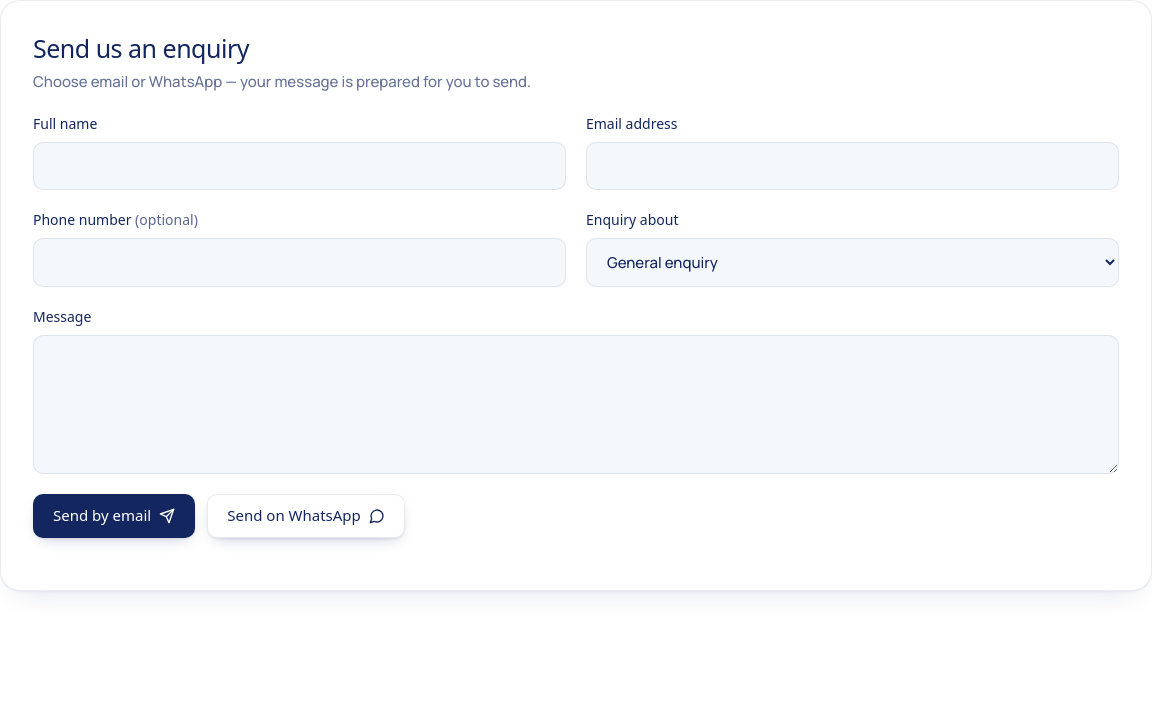
Scenario: EnquiryForm › shows field errors and focuses the first invalid field when submitted empty
The width and height of the screenshot is (1152, 720).
What coordinates should you click on to do the following:
click the button "Send by email"
I would click on:
 (114, 516)
Its box is [33,494,195,538].
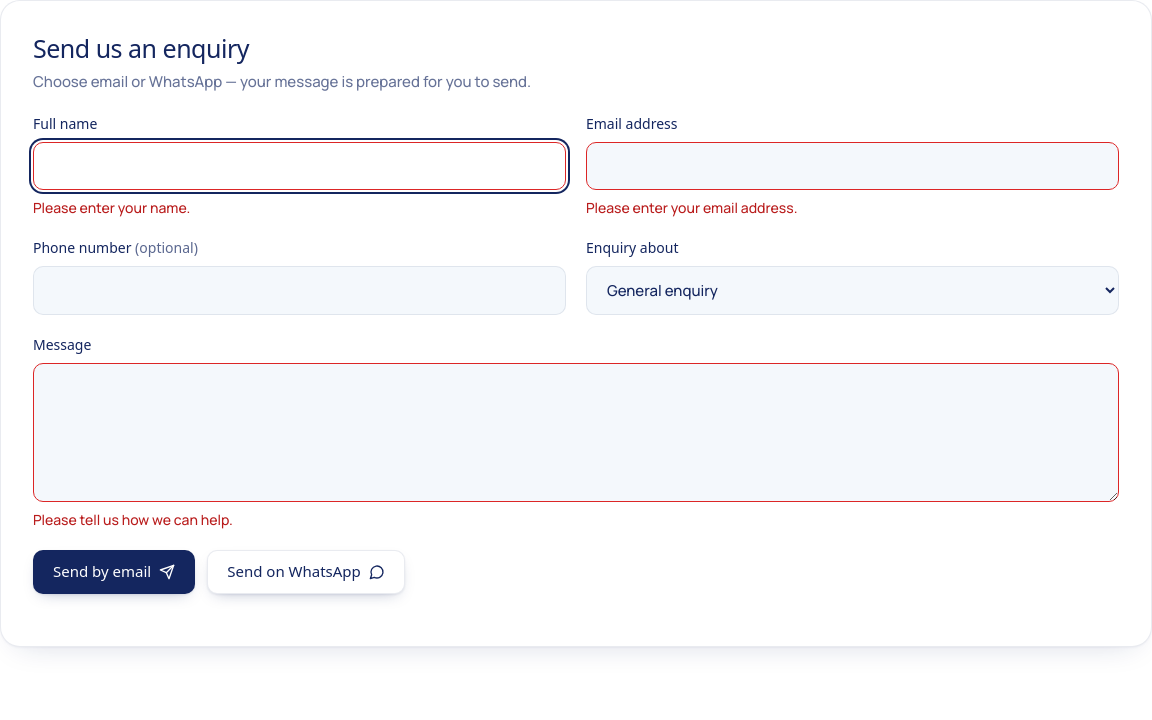
Expected: the text "Please enter your name." is shown, [33,198,190,217]
Expected: the text "Please enter your email address." is shown, [586,198,798,217]
Expected: the text "Please tell us how we can help." is shown, [33,510,233,528]
